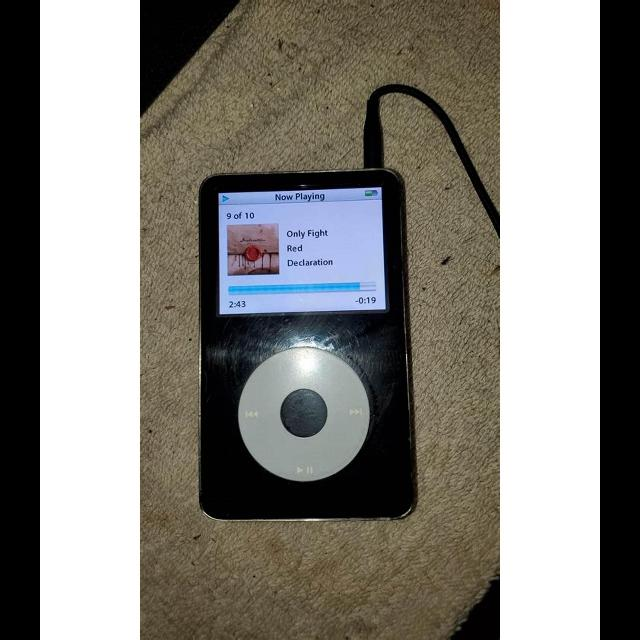Music-Player: (188, 163, 426, 533)
